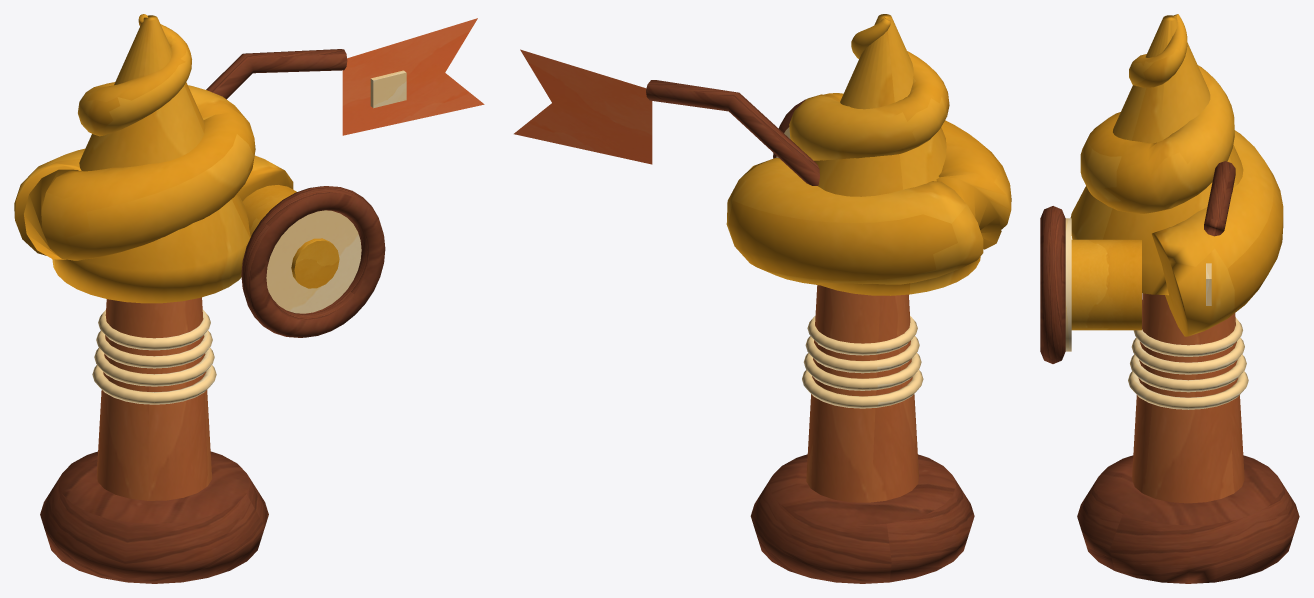
The model's file is revised-08-03.glb.
3 views of the same model, side by side, from view 1: azimuth 30°, elevation 25°; view 2: azimuth 150°, elevation 25°; view 3: azimuth 270°, elevation 25° (orthographic). The views are drawn at different scales.
Visible parts, largest first — view 1: conch_signal; view 2: conch_signal; view 3: conch_signal.
Boxes of the visible parts, bbox=[...] form: conch_signal: bbox=[14, 14, 484, 583]; conch_signal: bbox=[514, 14, 1011, 583]; conch_signal: bbox=[1040, 14, 1299, 583].
Size of the model in its own units: 1.45 by 1.54 by 0.699.
1 material, 1 textured.
